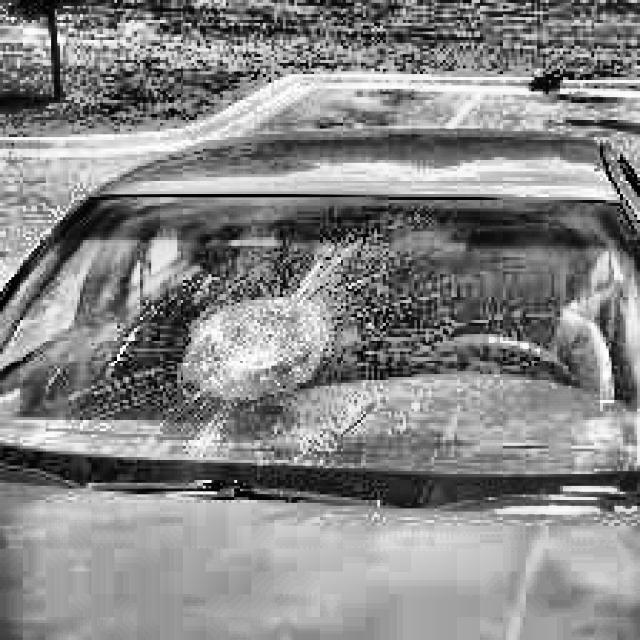glass_shatter: (176, 291, 340, 395)
